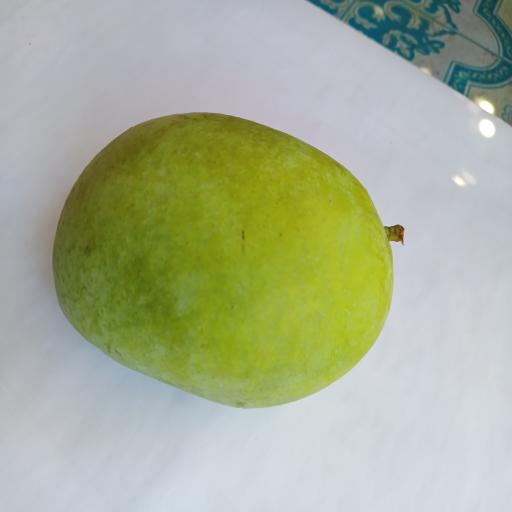mango-unripe: (48, 100, 423, 417)
